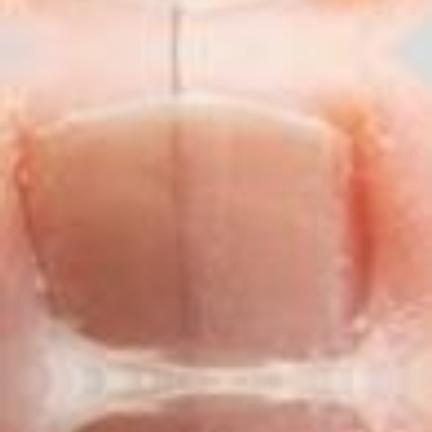Nail: (16, 90, 362, 363), (66, 398, 359, 432), (107, 0, 252, 10)
